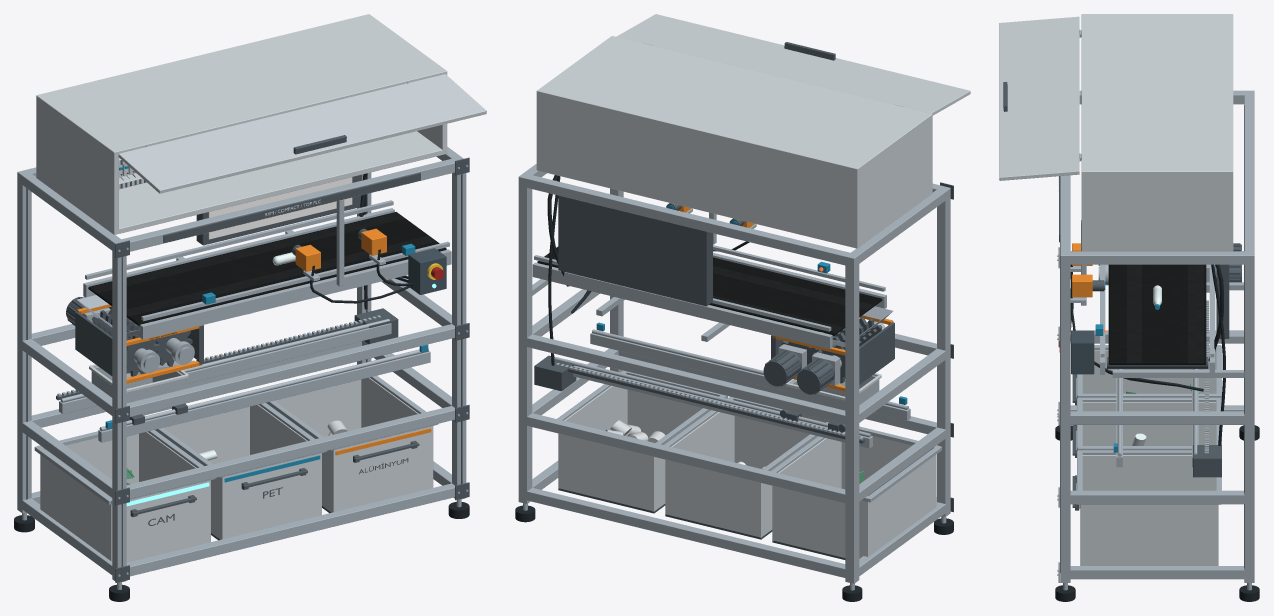
Rendered from RVM_Kompakt_Ust_Pano.fbx.
3 views of the same model, side by side, from view 1: azimuth 30°, elevation 25°; view 2: azimuth 150°, elevation 25°; view 3: azimuth 270°, elevation 25° (orthographic). The views are drawn at different scales.
Parts seen in each view (by area): view 1: Frame_OpenSkeleton, Electrical_Cabinet_Top, Cabinet_Lid_Open, Bin_Glass, Bin_PET, Bin_Aluminum, Conveyor_Belt, LinearRail_Fixed, Conveyor_StaticFrame, Crusher_StaticHousing, Machine_Nameplate, Shuttle (+7 smaller); view 2: Electrical_Cabinet_Top, Frame_OpenSkeleton, Bin_Glass, Backlight_Frame, Bin_PET, Bin_Aluminum, Cabinet_Lid_Open, LinearRail_Fixed, Conveyor_StaticFrame, Conveyor_Belt, Crusher_Motors_Static, Crusher_StaticHousing (+4 smaller); view 3: Electrical_Cabinet_Top, Frame_OpenSkeleton, Bin_Aluminum, Cabinet_Lid_Open, Conveyor_Belt, Bin_PET, Bin_Glass, Conveyor_StaticFrame, LinearRail_Fixed, ControlBox, MainCableHarness, Rail_DriveMotor (+4 smaller).
Part boxes in pixels (x1=…): Frame_OpenSkeleton: x1=14, y1=147, x2=469, y2=601; Electrical_Cabinet_Top: x1=36, y1=14, x2=447, y2=234; Cabinet_Lid_Open: x1=118, y1=74, x2=486, y2=193; Bin_Glass: x1=34, y1=430, x2=216, y2=562; Bin_PET: x1=155, y1=403, x2=327, y2=540; Bin_Aluminum: x1=266, y1=375, x2=438, y2=513; Conveyor_Belt: x1=88, y1=212, x2=446, y2=325; LinearRail_Fixed: x1=56, y1=315, x2=430, y2=442; Conveyor_StaticFrame: x1=83, y1=200, x2=451, y2=339; Crusher_StaticHousing: x1=75, y1=304, x2=203, y2=383; Machine_Nameplate: x1=163, y1=172, x2=420, y2=242; Shuttle: x1=89, y1=364, x2=188, y2=425; Electrical_Cabinet_Top: x1=536, y1=36, x2=932, y2=248; Frame_OpenSkeleton: x1=515, y1=164, x2=953, y2=601; Bin_Glass: x1=771, y1=426, x2=941, y2=559; Backlight_Frame: x1=558, y1=195, x2=712, y2=306; Bin_PET: x1=664, y1=396, x2=828, y2=539; Bin_Aluminum: x1=557, y1=370, x2=727, y2=513; Cabinet_Lid_Open: x1=616, y1=14, x2=970, y2=115; LinearRail_Fixed: x1=554, y1=329, x2=910, y2=448; Conveyor_StaticFrame: x1=532, y1=245, x2=886, y2=349; Conveyor_Belt: x1=537, y1=246, x2=882, y2=335; Crusher_Motors_Static: x1=763, y1=344, x2=840, y2=394; Crusher_StaticHousing: x1=771, y1=315, x2=894, y2=391; Electrical_Cabinet_Top: x1=1081, y1=14, x2=1233, y2=251; Frame_OpenSkeleton: x1=1055, y1=90, x2=1259, y2=601; Bin_Aluminum: x1=1072, y1=450, x2=1221, y2=565; Cabinet_Lid_Open: x1=999, y1=16, x2=1079, y2=180; Conveyor_Belt: x1=1108, y1=264, x2=1206, y2=364; Bin_PET: x1=1072, y1=397, x2=1221, y2=457; Bin_Glass: x1=1072, y1=345, x2=1221, y2=405; Conveyor_StaticFrame: x1=1100, y1=264, x2=1244, y2=377; LinearRail_Fixed: x1=1116, y1=300, x2=1208, y2=467; ControlBox: x1=1071, y1=330, x2=1094, y2=374; MainCableHarness: x1=1208, y1=264, x2=1225, y2=445; Rail_DriveMotor: x1=1193, y1=445, x2=1221, y2=477.
Size of the model in its own units: 1.74 by 2.04 by 1.13.
17 materials, 1 textured.
